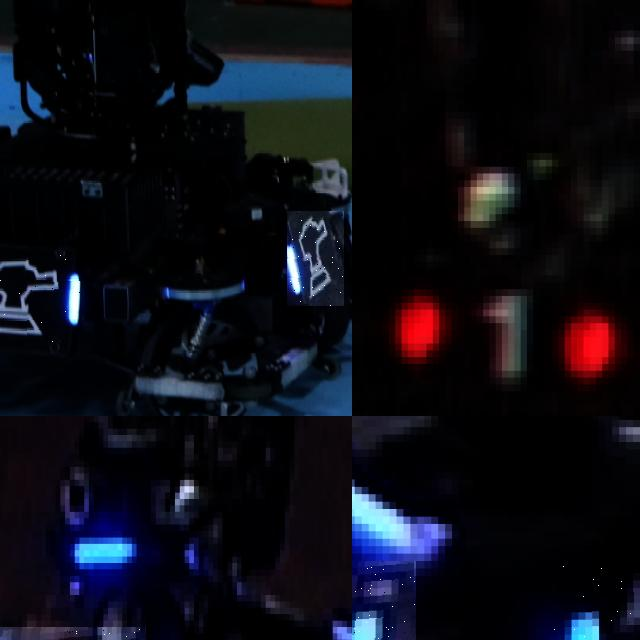B4: (549, 561, 640, 640), (352, 561, 417, 640)
Bs: (0, 250, 84, 347), (288, 211, 346, 306)
R1: (389, 283, 615, 392)
